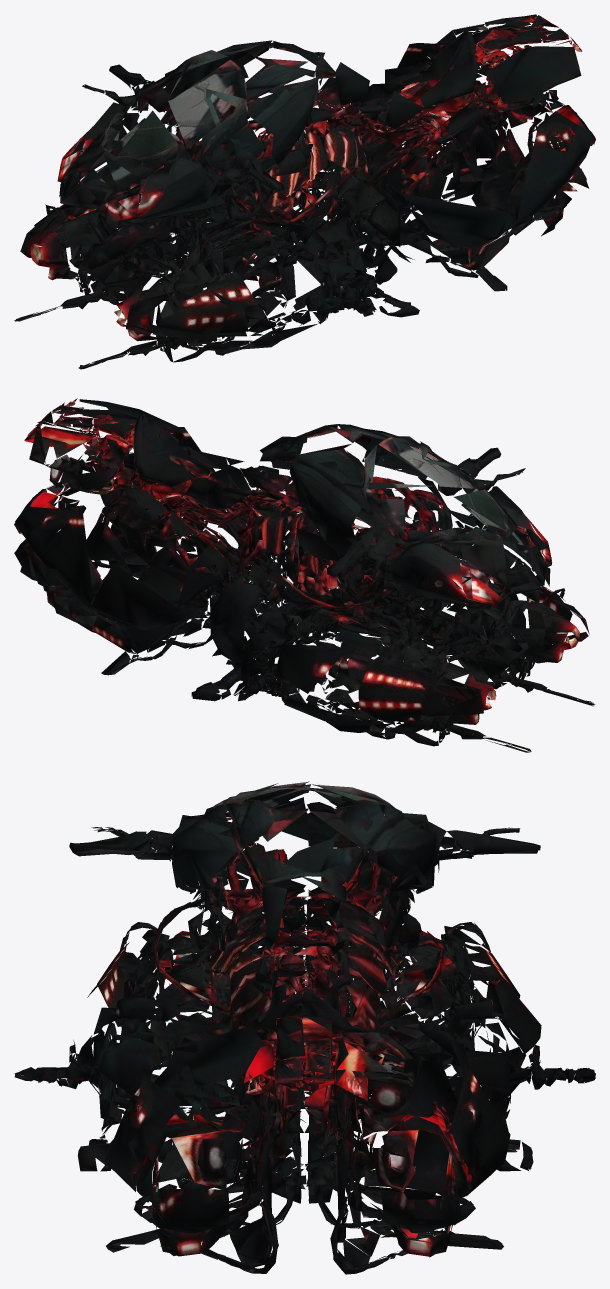
Rendered from crimson-vanguard.glb.
The picture shows the model from 3 angles, top to bottom: view 1: azimuth 30°, elevation 25°; view 2: azimuth 150°, elevation 25°; view 3: azimuth 270°, elevation 25°; orthographic projection. The views are drawn at different scales.
Size of the model in its own units: 1.9 by 0.8785 by 1.32.
Materials: 1 (1 with a texture image).
